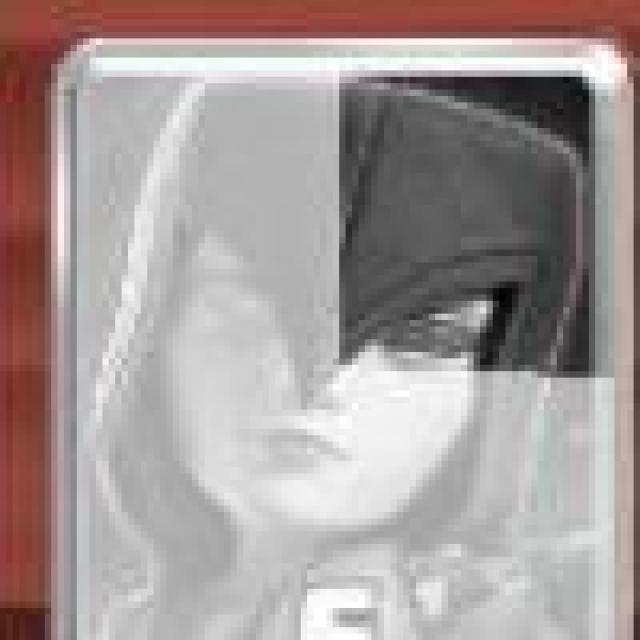Witch: (56, 39, 634, 640)
